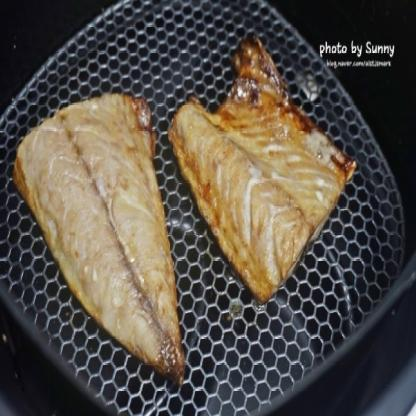Peixe: (12, 78, 196, 394), (172, 38, 370, 293)
